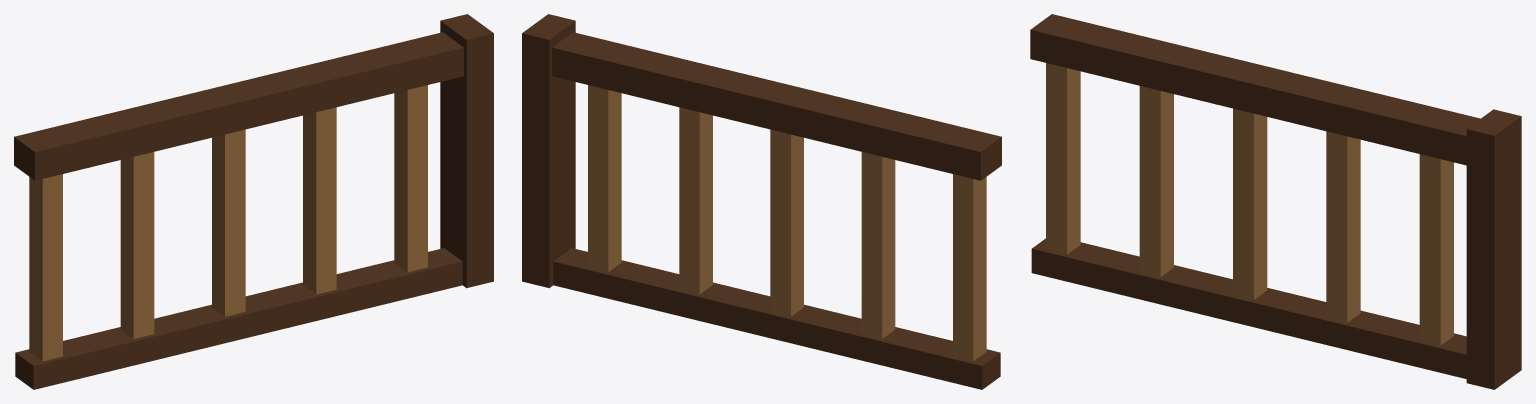
File: tv-railing.glb
3 renders of one model, left to right at view 1: azimuth 30°, elevation 25°; view 2: azimuth 150°, elevation 25°; view 3: azimuth 330°, elevation 25°, orthographic. The views are drawn at different scales.
Parts seen in each view (by area): view 1: box-prop; view 2: box-prop; view 3: box-prop.
Part boxes in pixels (x1,y1,x2,y2): box-prop: (14, 14, 493, 389); box-prop: (522, 14, 1001, 389); box-prop: (1030, 14, 1521, 389).
Size of the model in its own units: 2 by 1.04 by 0.2.
